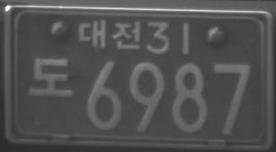1: (174, 20, 197, 56)
3: (144, 20, 171, 56)
6: (84, 58, 123, 131)
7: (212, 61, 252, 136)
8: (170, 61, 209, 135)
9: (126, 60, 165, 134)
대전_O: (77, 18, 142, 51)
도: (27, 56, 74, 99)
